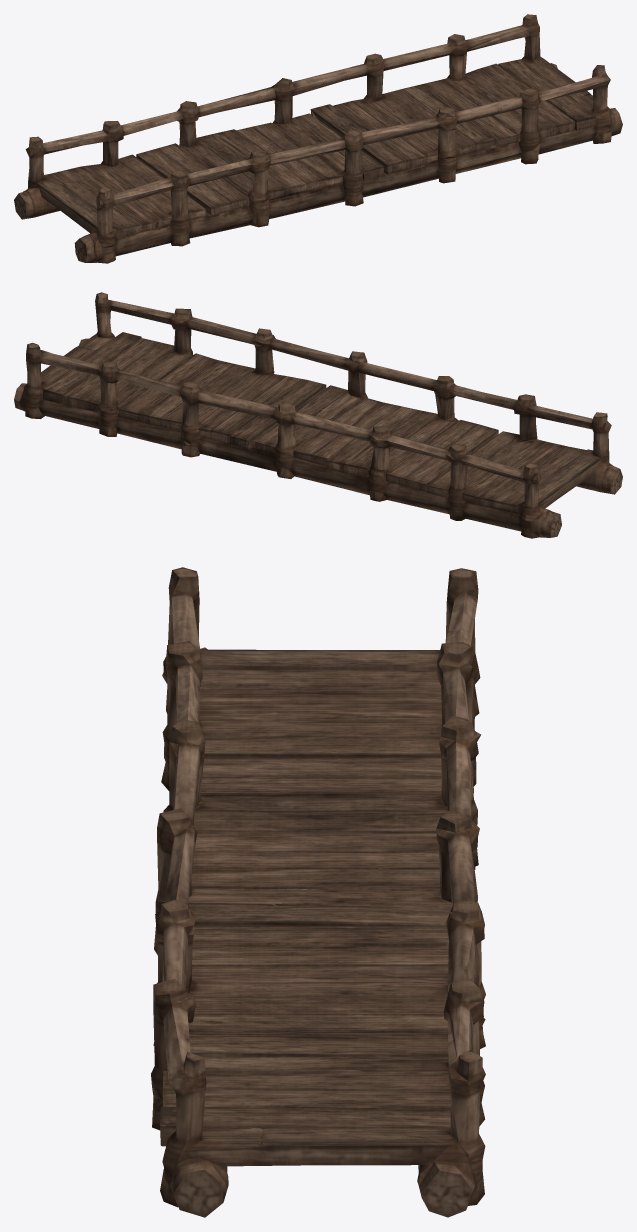
The picture shows the model from 3 angles, top to bottom: view 1: azimuth 30°, elevation 25°; view 2: azimuth 150°, elevation 25°; view 3: azimuth 270°, elevation 25°; orthographic projection. The views are drawn at different scales.
Visible parts, largest first — view 1: wood-footbridge.001; view 2: wood-footbridge.001; view 3: wood-footbridge.001.
Boxes of the visible parts, bbox=[...] form: wood-footbridge.001: bbox=[14, 14, 622, 263]; wood-footbridge.001: bbox=[14, 292, 622, 538]; wood-footbridge.001: bbox=[151, 567, 485, 1217].
Bounding box in the file's own units: 11.54 × 1.54 × 3.13.
1 material, 1 textured.
